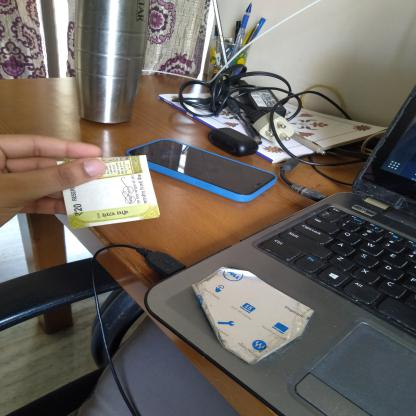New20Back: (58, 155, 154, 226)
